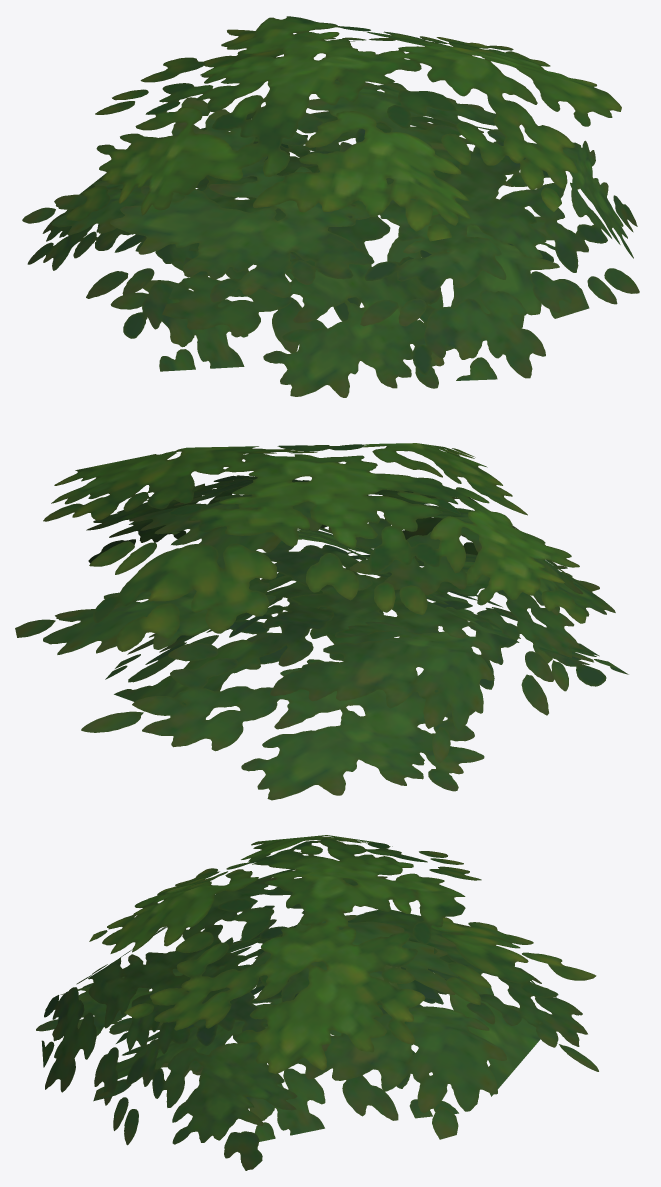
File: plant_vege_064.FBX
3 views of the same model, one above another, from view 1: azimuth 30°, elevation 25°; view 2: azimuth 150°, elevation 25°; view 3: azimuth 270°, elevation 25° (orthographic). The views are drawn at different scales.
Parts seen in each view (by area): view 1: plant_vege_064_01; view 2: plant_vege_064_01; view 3: plant_vege_064_01.
Boxes of the visible parts, left/top/right/bottom form: plant_vege_064_01: left=22, top=16, right=639, bottom=397; plant_vege_064_01: left=15, top=443, right=628, bottom=800; plant_vege_064_01: left=36, top=835, right=598, bottom=1170.
Bounding box in the file's own units: 3.5 × 1.29 × 3.82.
